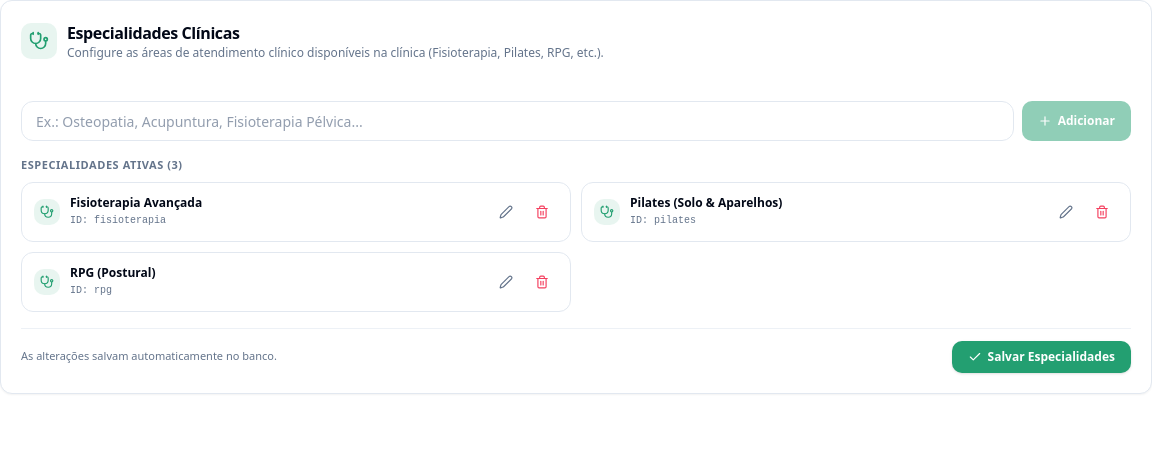
Test: adiciona uma nova especialidade clínica e salva
The width and height of the screenshot is (1152, 469).
Type "Osteopatia Clínica" into the field named "Nome da nova especialidade clínica" at (517, 121), box 21,101 -> 1014,141
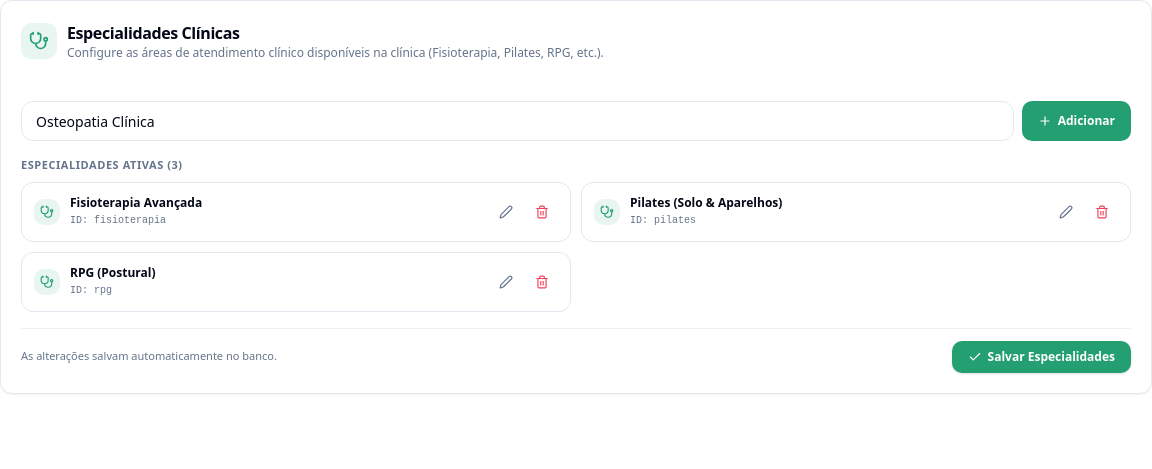
Click the button "Adicionar" at (1076, 121), box 1022,101 -> 1131,141
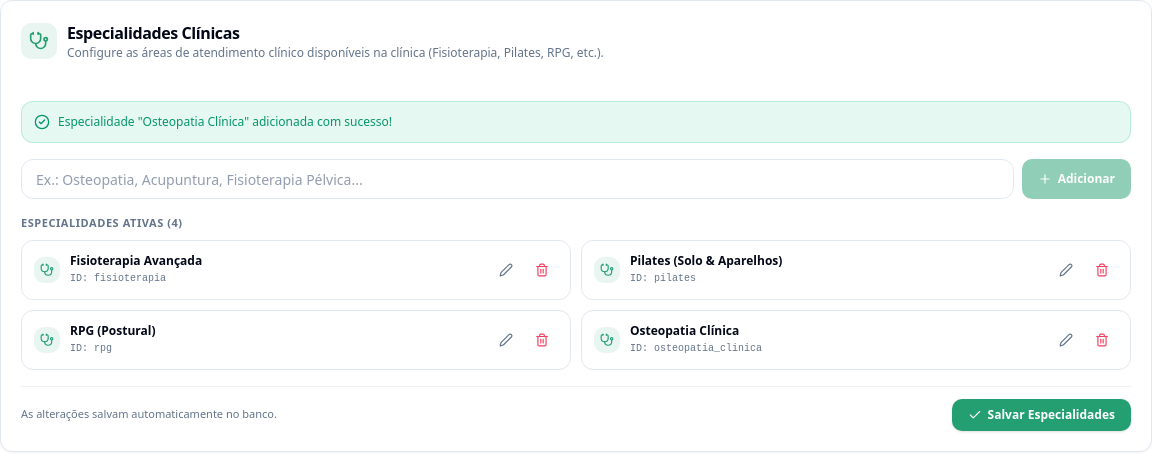
Expected: the text "Osteopatia Clínica" is shown, 630,322 -> 739,338
